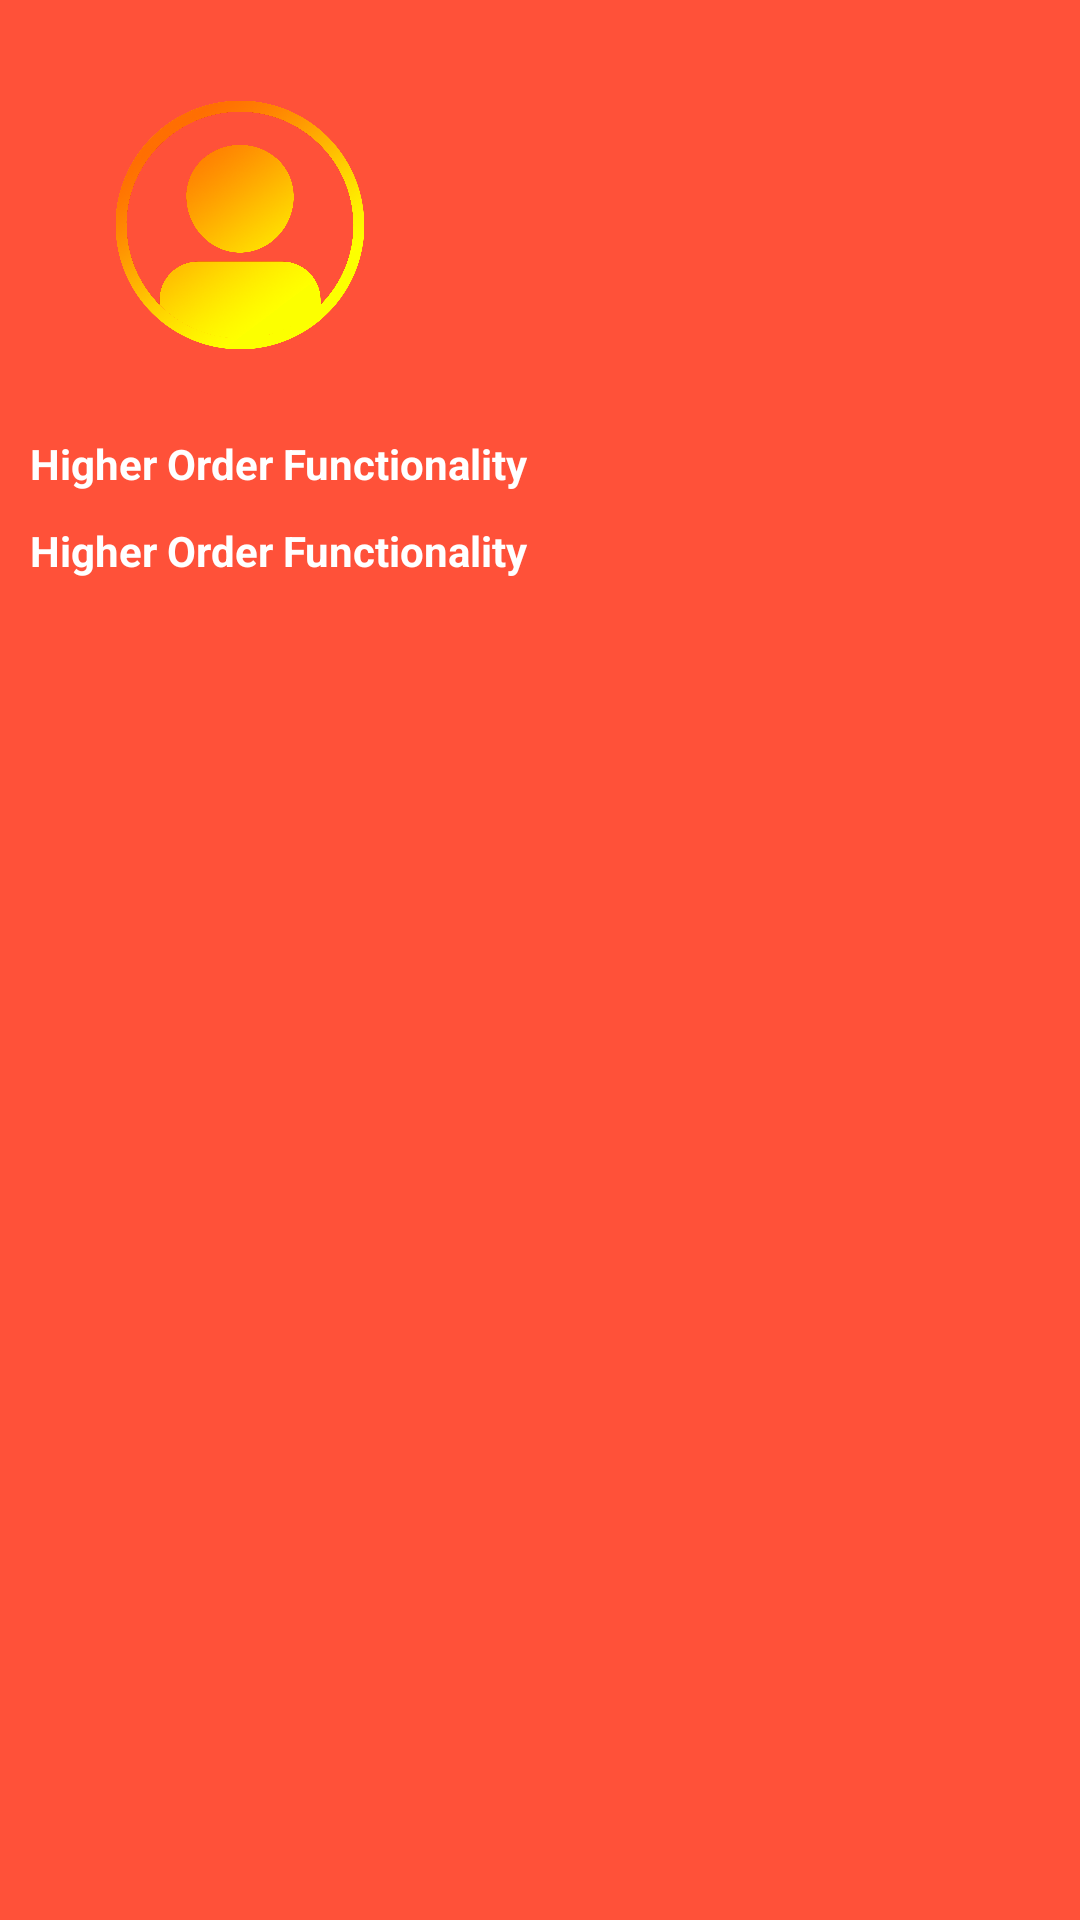

Named icons in this screenshot (1080px x 1920px) and their bounding boxes, Rect(x1, y1, x2, y2):
person: Rect(116, 101, 364, 349)
